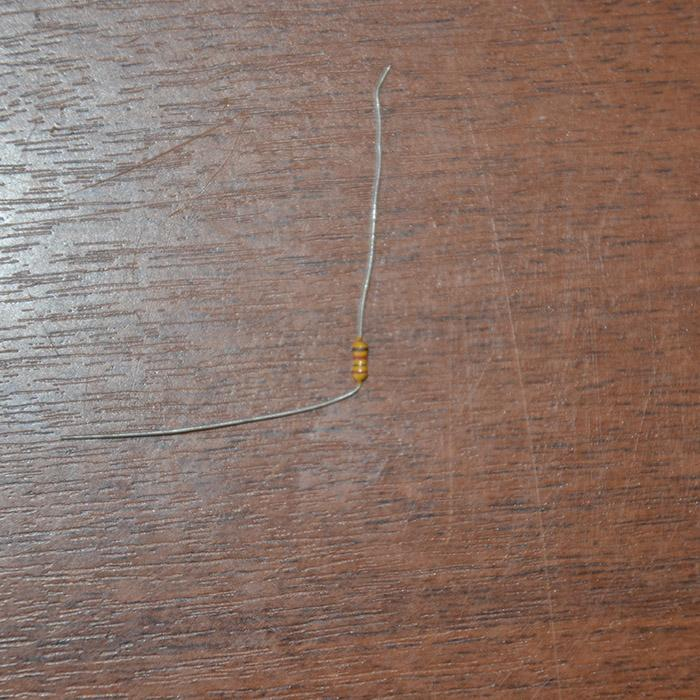resistor: (351, 339, 370, 382)
